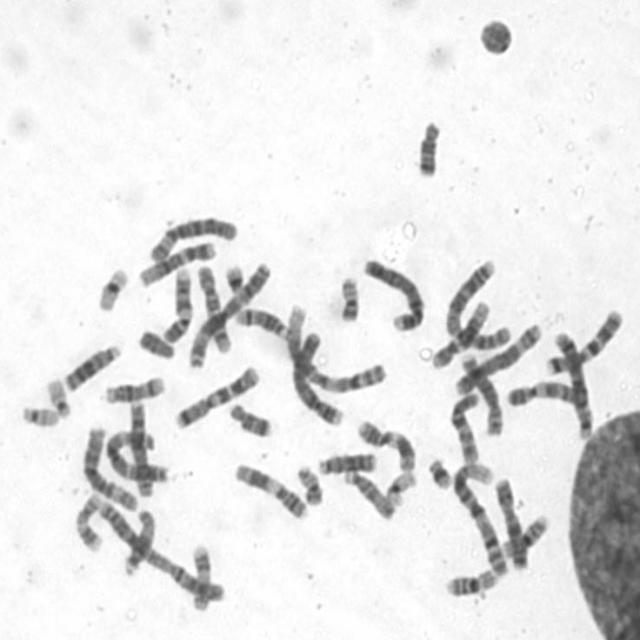A1: (280, 297, 387, 395), (447, 455, 510, 577)
A2: (90, 494, 224, 604), (439, 252, 513, 352)
A3: (183, 254, 273, 369), (100, 422, 170, 484)
B4: (283, 313, 345, 428), (357, 250, 427, 334)
B5: (450, 315, 544, 396), (548, 323, 596, 440)
C10: (191, 257, 234, 355), (443, 385, 482, 466)
C11: (228, 455, 311, 521), (352, 412, 418, 472)
C12: (426, 294, 492, 371), (132, 232, 217, 288)
C6: (77, 418, 139, 513), (143, 208, 239, 263)
C7: (168, 358, 262, 430), (540, 300, 625, 377)
C8: (454, 346, 505, 437), (124, 393, 156, 498)
C9: (156, 260, 194, 344), (501, 372, 586, 409)
D13: (58, 335, 124, 393), (312, 444, 378, 476)
D14: (98, 368, 167, 405), (230, 299, 290, 340)
D15: (338, 463, 398, 521), (118, 501, 159, 577)
E16: (498, 507, 552, 560), (439, 560, 500, 599)
E17: (69, 486, 104, 554), (184, 536, 213, 612)
E18: (223, 395, 274, 439), (411, 111, 444, 178)
F19: (90, 259, 132, 313), (379, 464, 418, 508)
F20: (292, 458, 326, 507), (333, 268, 363, 323)
G21: (422, 450, 454, 491), (219, 257, 248, 295)
G22: (40, 371, 74, 418), (15, 397, 61, 428)
X: (488, 471, 530, 572)
Y: (132, 321, 178, 361)
